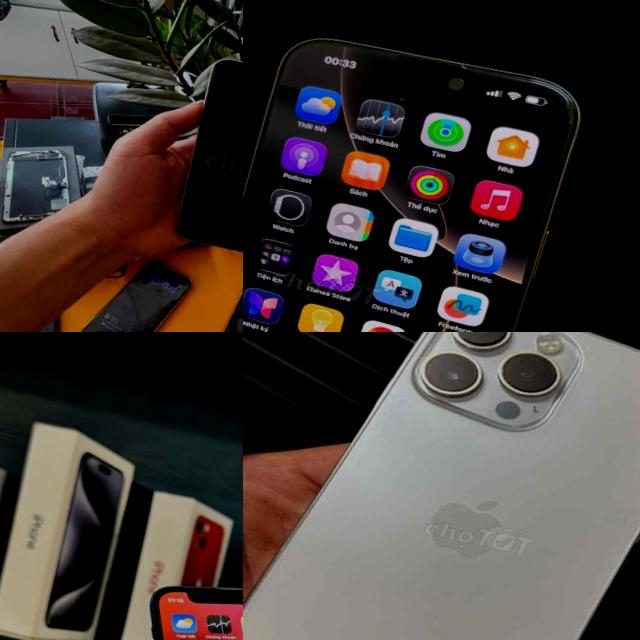gen_12_13: (163, 46, 243, 276)
gen_14: (243, 332, 640, 640)
gen_16: (243, 11, 593, 332)
